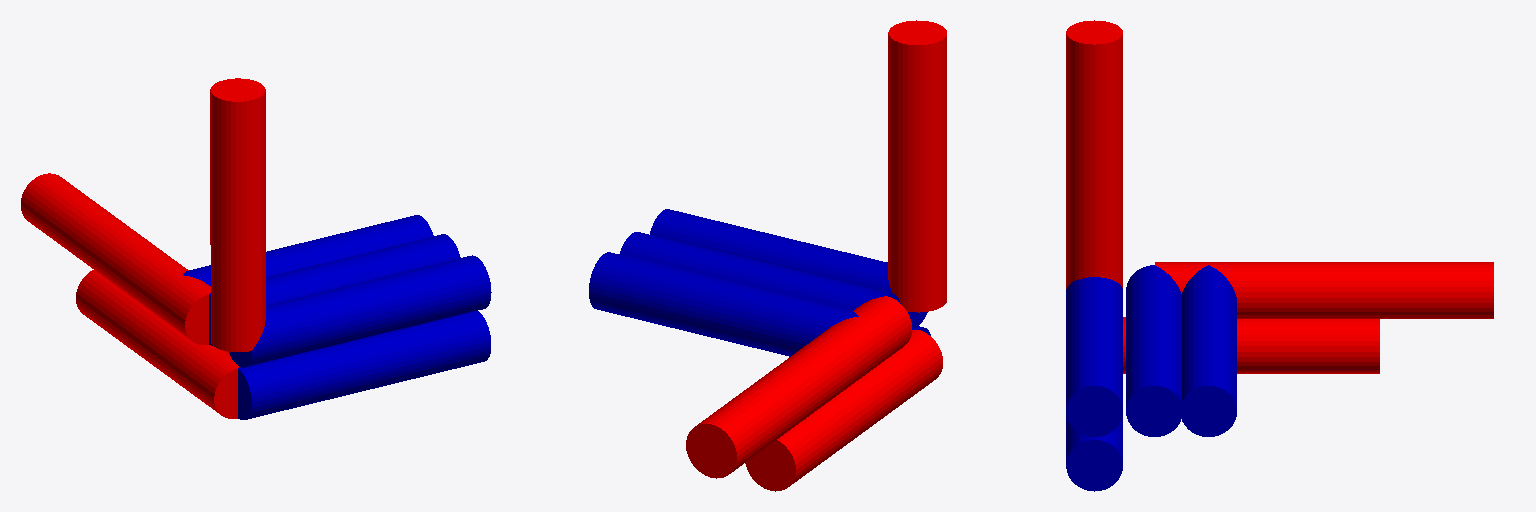
robot.urdf — example_robot:
<robot name="example_robot">
	<link name="link0_passive">
		<visual>
			<material name="blue">
				<color rgba="0 0 .8 1"/>
			</material>
			<geometry>
				<origin xyz="0 0 0" rpy="0 0 0"/>
				<cylinder length="0.0" radius="0.0"/>
			</geometry>
		</visual>
	</link>
	<link name="link0_x_axis">
		<visual>
			<material name="red">
				<color rgba="1 0 0 1"/>
			</material>
			<geometry>
				<origin xyz="0 0 0" rpy="0 0 0"/>
				<cylinder length="0.0" radius="0.0"/>
			</geometry>
		</visual>
	</link>
	<joint name="q0_x" type="fixed">
		<origin xyz="0 0 0" rpy="0 1.571 0"/>
		<parent link="link0_passive"/>
		<child link="link0_x_axis"/>
	</joint>
	<link name="link1"/>
	<link name="link1_x_axis">
		<visual>
			<origin xyz="0 0 0.25" rpy="0 0 0"/>
			<material name="red"/>
			<geometry>
				<cylinder length="0.5" radius="0.05"/>
			</geometry>
		</visual>
	</link>
	<joint name="q1" type="revolute">
		<origin xyz="0 0 0.08" rpy="0 0 1.5707963267948966"/>
		<parent link="link0_passive"/>
		<child link="link1"/>
		<axis xyz="0 0 1"/>
	</joint>
	<joint name="q1_passive" type="fixed">
		<origin xyz="0 0 0" rpy="1.5707963267948966 0 0"/>
		<parent link="link1"/>
		<child link="link1_passive"/>
	</joint>
	<link name="link1_passive">
		<visual>
			<origin xyz="0 0 0.25" rpy="0 0 0"/>
			<material name="blue"/>
			<geometry>
				<cylinder length="0.5" radius="0.05"/>
			</geometry>
		</visual>
	</link>
	<joint name="q1_x" type="fixed">
		<origin xyz="0 0 0" rpy="0 1.571 0"/>
		<parent link="link1_passive"/>
		<child link="link1_x_axis"/>
	</joint>
	<link name="link2"/>
	<link name="link2_x_axis">
		<visual>
			<origin xyz="0 0 0.25" rpy="0 0 0"/>
			<material name="red"/>
			<geometry>
				<cylinder length="0.5" radius="0.05"/>
			</geometry>
		</visual>
	</link>
	<joint name="q2" type="revolute">
		<origin xyz="0 0 0" rpy="0 0 1.5707963267948966"/>
		<parent link="link1_passive"/>
		<child link="link2"/>
		<axis xyz="0 0 1"/>
	</joint>
	<joint name="q2_passive" type="fixed">
		<origin xyz="0.105 0 0" rpy="0 0 0"/>
		<parent link="link2"/>
		<child link="link2_passive"/>
	</joint>
	<link name="link2_passive">
		<visual>
			<origin xyz="0 0 0.25" rpy="0 0 0"/>
			<material name="blue"/>
			<geometry>
				<cylinder length="0.5" radius="0.05"/>
			</geometry>
		</visual>
	</link>
	<joint name="q2_x" type="fixed">
		<origin xyz="0 0 0" rpy="0 1.571 0"/>
		<parent link="link2_passive"/>
		<child link="link2_x_axis"/>
	</joint>
	<link name="link3"/>
	<link name="link3_x_axis">
		<visual>
			<origin xyz="0 0 0.25" rpy="0 0 0"/>
			<material name="red"/>
			<geometry>
				<cylinder length="0.5" radius="0.05"/>
			</geometry>
		</visual>
	</link>
	<joint name="q3" type="revolute">
		<origin xyz="0 0 0" rpy="0 0 -1.5707963267948966"/>
		<parent link="link2_passive"/>
		<child link="link3"/>
		<axis xyz="0 0 1"/>
	</joint>
	<joint name="q3_passive" type="fixed">
		<origin xyz="0.105 0 0" rpy="0 0 0"/>
		<parent link="link3"/>
		<child link="link3_passive"/>
	</joint>
	<link name="link3_passive">
		<visual>
			<origin xyz="0 0 0.25" rpy="0 0 0"/>
			<material name="blue"/>
			<geometry>
				<cylinder length="0.5" radius="0.05"/>
			</geometry>
		</visual>
	</link>
	<joint name="q3_x" type="fixed">
		<origin xyz="0 0 0" rpy="0 1.571 0"/>
		<parent link="link3_passive"/>
		<child link="link3_x_axis"/>
	</joint>
	<link name="link4"/>
	<link name="link4_x_axis">
		<visual>
			<origin xyz="0 0 0.25" rpy="0 0 0"/>
			<material name="red"/>
			<geometry>
				<cylinder length="0.5" radius="0.05"/>
			</geometry>
		</visual>
	</link>
	<joint name="q4" type="revolute">
		<origin xyz="0 0 0" rpy="0 0 0"/>
		<parent link="link3_passive"/>
		<child link="link4"/>
		<axis xyz="0 0 1"/>
	</joint>
	<joint name="q4_passive" type="fixed">
		<origin xyz="0.095 0 0" rpy="0 0 0"/>
		<parent link="link4"/>
		<child link="link4_passive"/>
	</joint>
	<link name="link4_passive">
		<visual>
			<origin xyz="0 0 0.25" rpy="0 0 0"/>
			<material name="blue"/>
			<geometry>
				<cylinder length="0.5" radius="0.05"/>
			</geometry>
		</visual>
	</link>
	<joint name="q4_x" type="fixed">
		<origin xyz="0 0 0" rpy="0 1.571 0"/>
		<parent link="link4_passive"/>
		<child link="link4_x_axis"/>
	</joint>
</robot>

--- What the picture shows (computed from the rendered views, not written in the file) ---
3 views of the same robot in one strip: view 1: azimuth 30°, elevation 25°; view 2: azimuth 150°, elevation 25°; view 3: azimuth 270°, elevation 25° (orthographic).
Robot: example_robot — 14 links, 13 joints (4 revolute, 9 fixed); root link link0_passive; default pose: all joints at 0.
Links seen in each view (by area): view 1: link2_x_axis, link2_passive, link1_passive, link3_x_axis, link1_x_axis, link3_passive, link4_passive, link4_x_axis; view 2: link2_x_axis, link4_passive, link1_x_axis, link3_x_axis, link2_passive, link3_passive, link4_x_axis; view 3: link2_x_axis, link4_x_axis, link3_passive, link2_passive, link4_passive, link1_x_axis, link1_passive, link3_x_axis.
Boxes of the visible links, x1,y1,x2,y2 form: link2_x_axis: [210, 78, 265, 351]; link2_passive: [229, 255, 491, 367]; link1_passive: [238, 311, 490, 419]; link3_x_axis: [47, 193, 210, 344]; link1_x_axis: [76, 270, 238, 418]; link3_passive: [209, 234, 460, 345]; link4_passive: [183, 215, 433, 285]; link4_x_axis: [21, 173, 188, 274]; link2_x_axis: [888, 20, 946, 312]; link4_passive: [589, 252, 858, 356]; link1_x_axis: [745, 330, 942, 491]; link3_x_axis: [740, 296, 911, 451]; link2_passive: [650, 209, 927, 328]; link3_passive: [619, 232, 900, 310]; link4_x_axis: [686, 317, 856, 478]; link2_x_axis: [1066, 20, 1122, 288]; link4_x_axis: [1210, 262, 1493, 318]; link3_passive: [1126, 265, 1182, 436]; link2_passive: [1066, 277, 1122, 436]; link4_passive: [1180, 265, 1236, 436]; link1_x_axis: [1123, 317, 1379, 373]; link1_passive: [1066, 414, 1122, 491]; link3_x_axis: [1155, 262, 1439, 293].
Bounding box of the posed robot: 0.5501 × 0.75 × 0.685 m (x, y, z).
Geometry: primitives only (box / cylinder / sphere), no mesh files.